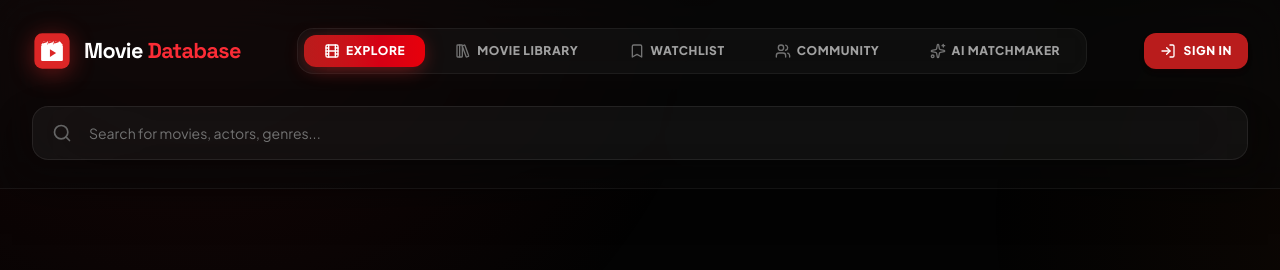
Test: Navbar search › shows a no-results state for a query that matches nothing
This screenshot has width=1280, height=270.
In the dropdown named "search movies, actors, directors": (640, 133) left=32, top=106, right=1248, bottom=160, type "zzzznomatchzzzz"
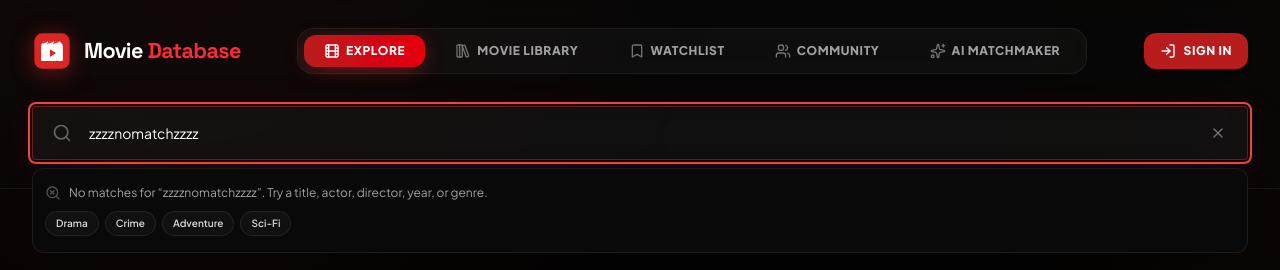
Expected: the text "No matches for" is shown, left=69, top=185, right=163, bottom=200
